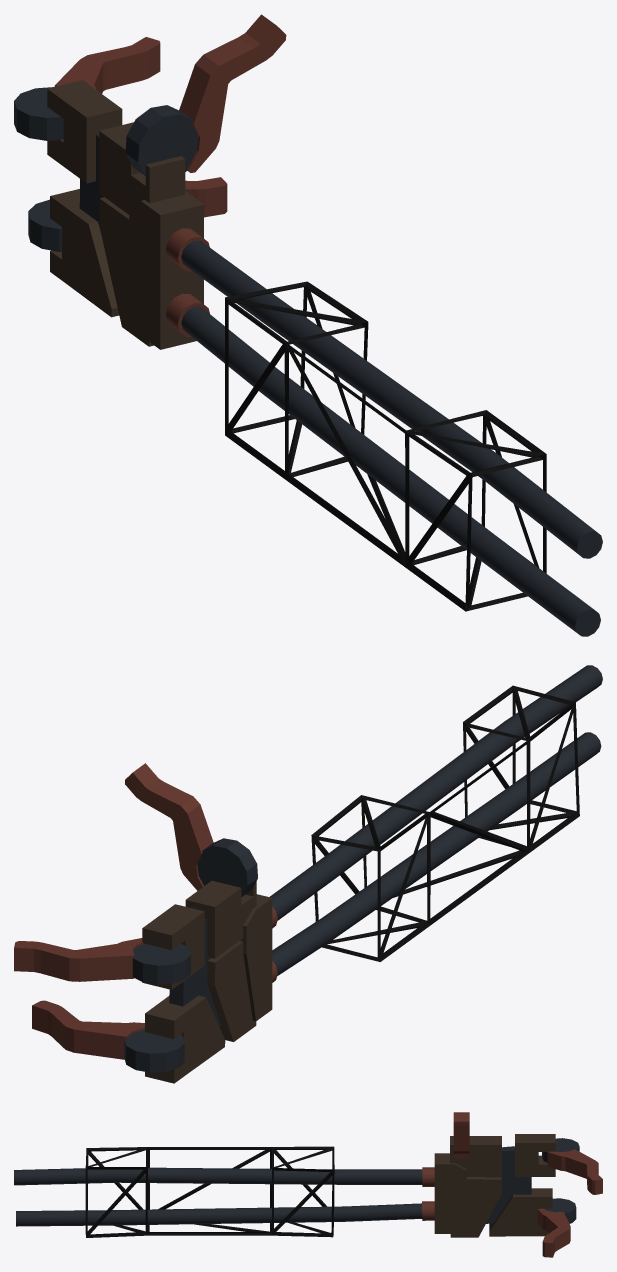
File: V1_Arm.obj
3 views of the same model, one above another, from view 1: azimuth 30°, elevation 25°; view 2: azimuth 150°, elevation 25°; view 3: azimuth 270°, elevation 25° (orthographic). The views are drawn at different scales.
Visible parts, largest first — view 1: Cylinder, Cube, Cube.009, Cube.001, Cylinder.001, Cube.002, Cylinder.002, Cylinder.003, Cube.003; view 2: Cylinder, Cube, Cube.009, Cube.002, Cube.001, Cube.003, Cylinder.001, Cylinder.003, Cylinder.002; view 3: Cylinder, Cube, Cube.009, Cube.002, Cube.003, Cube.001, Cylinder.003, Cylinder.002.
Part boxes in pixels (x1=…): Cylinder: x1=166, y1=228, x2=602, y2=636; Cube: x1=47, y1=80, x2=203, y2=349; Cube.009: x1=225, y1=281, x2=546, y2=611; Cube.001: x1=179, y1=14, x2=286, y2=172; Cylinder.001: x1=125, y1=105, x2=198, y2=175; Cube.002: x1=54, y1=37, x2=160, y2=93; Cylinder.002: x1=14, y1=87, x2=63, y2=140; Cylinder.003: x1=28, y1=199, x2=61, y2=251; Cube.003: x1=185, y1=177, x2=227, y2=217; Cylinder: x1=269, y1=665, x2=602, y2=982; Cube: x1=142, y1=880, x2=272, y2=1083; Cube.009: x1=311, y1=685, x2=579, y2=961; Cube.002: x1=14, y1=938, x2=144, y2=981; Cube.001: x1=125, y1=763, x2=213, y2=890; Cube.003: x1=32, y1=1000, x2=144, y2=1059; Cylinder.001: x1=197, y1=838, x2=257, y2=896; Cylinder.003: x1=124, y1=1030, x2=184, y2=1072; Cylinder.002: x1=132, y1=944, x2=190, y2=984; Cylinder: x1=14, y1=1167, x2=434, y2=1226; Cube: x1=434, y1=1134, x2=555, y2=1237; Cube.009: x1=85, y1=1146, x2=334, y2=1237; Cube.002: x1=547, y1=1149, x2=602, y2=1194; Cube.003: x1=537, y1=1208, x2=570, y2=1257; Cube.001: x1=453, y1=1112, x2=469, y2=1158; Cylinder.003: x1=544, y1=1198, x2=576, y2=1223; Cylinder.002: x1=542, y1=1138, x2=579, y2=1162.
Size of the model in its own units: 0.3715 by 0.4885 by 1.76.
